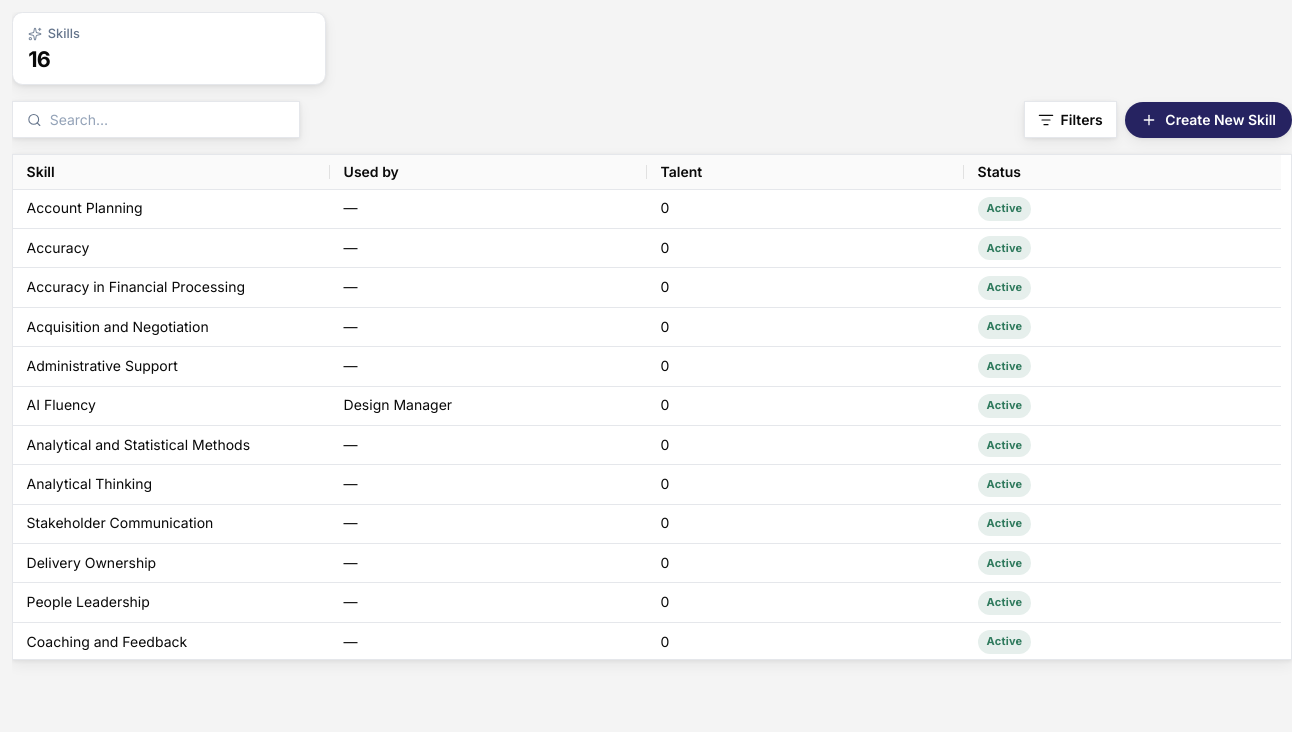
Test: SkillsLibrary › opens skill detail with roles matrix from a table row
Expected: the text "Design Manager" is shown, [330,386,647,426]
Click the text "AI Fluency".
click(172, 406)  # box [13,386,330,426]
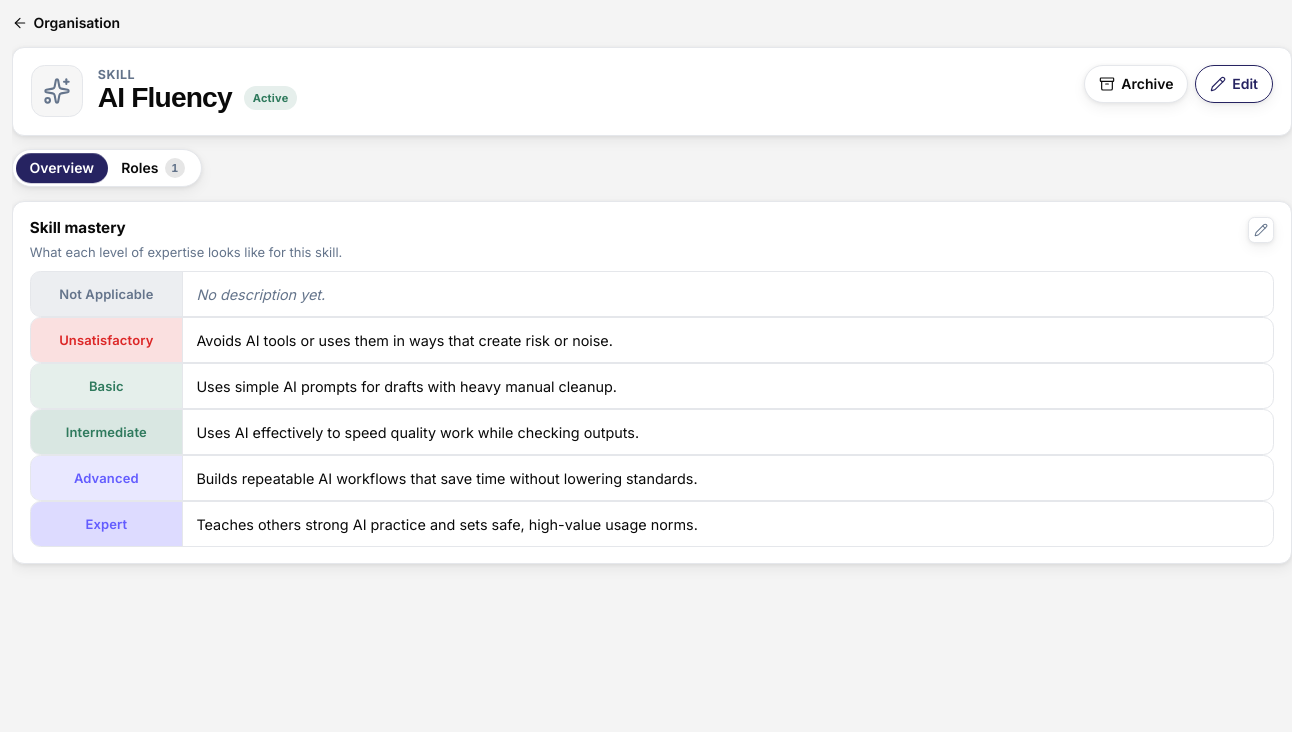
Expected: the heading "AI Fluency" is shown, [98,83,232,114]
Click the button "Roles 1".
click(153, 168)  # box [108,153,198,183]
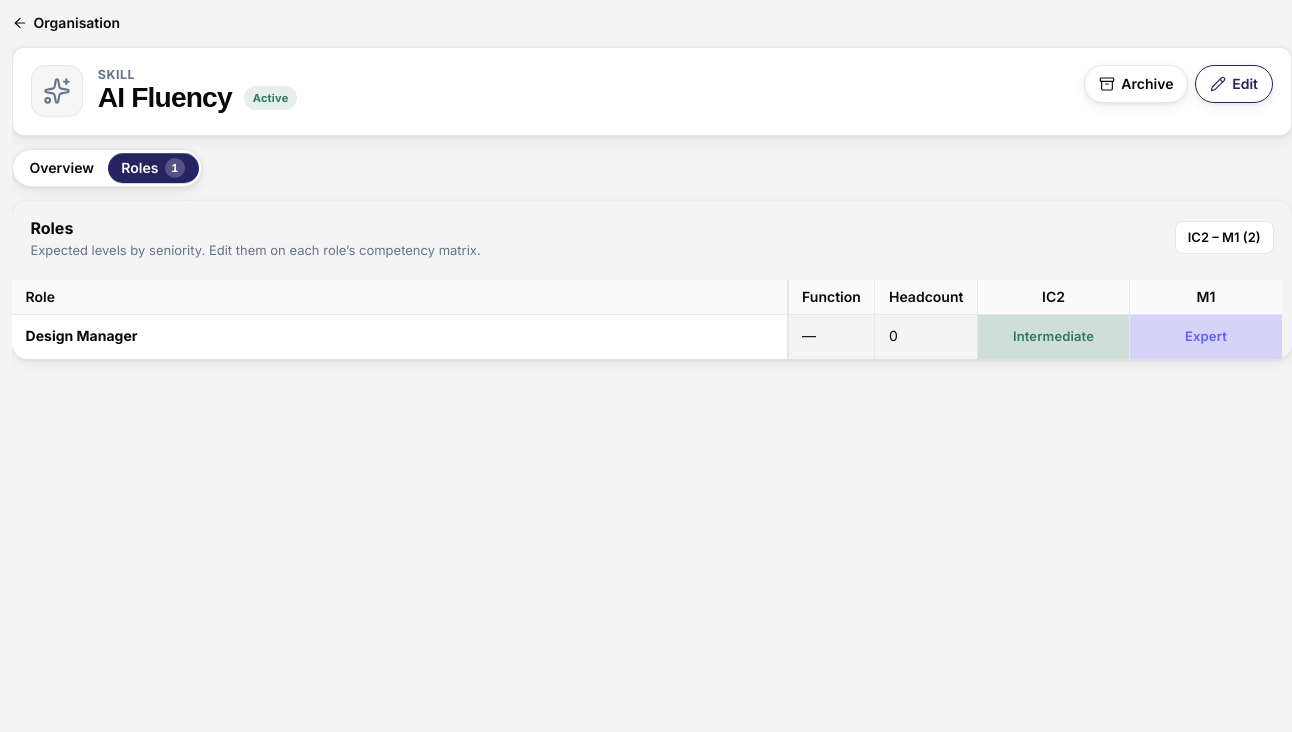
Expected: the column heading "Role" is shown, [12,280,788,315]
Expected: the column heading "Function" is shown, [788,280,875,315]
Expected: the column heading "Headcount" is shown, [875,280,978,315]
